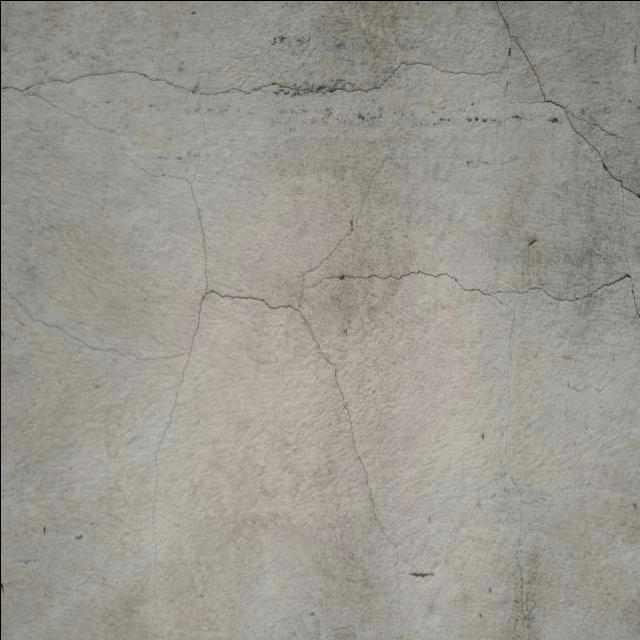SurfaceCrack: (0, 43, 626, 128)
